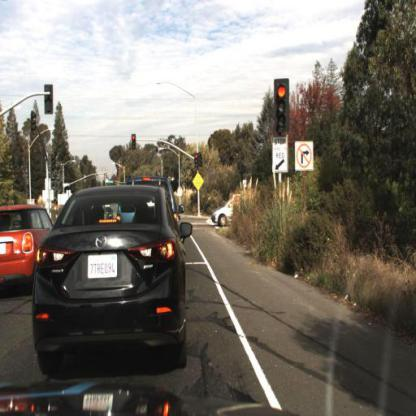car: (23, 180, 198, 382), (1, 193, 59, 300), (207, 188, 242, 235)
trafficLight-Red: (266, 62, 297, 156), (273, 79, 293, 137), (127, 127, 139, 155), (192, 148, 202, 177), (131, 133, 139, 154), (194, 152, 201, 170)
